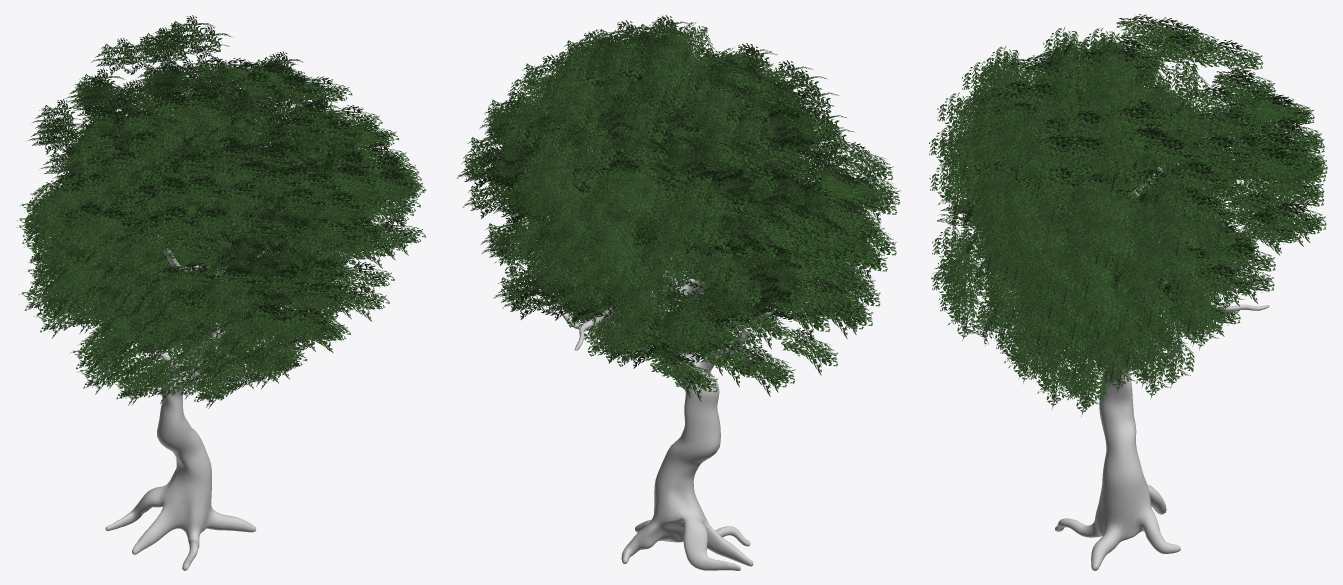
File: arbol2.fbx
3 renders of one model, left to right at view 1: azimuth 30°, elevation 25°; view 2: azimuth 150°, elevation 25°; view 3: azimuth 270°, elevation 25°, orthographic. The views are drawn at different scales.
Parts seen in each view (by area): view 1: Hojas, Tubo; view 2: Hojas, Tubo; view 3: Hojas, Tubo.
Part boxes in pixels (bbox=[...]): Hojas: bbox=[16, 15, 425, 408]; Tubo: bbox=[84, 132, 289, 570]; Hojas: bbox=[456, 15, 900, 401]; Tubo: bbox=[561, 149, 776, 570]; Hojas: bbox=[929, 14, 1327, 416]; Tubo: bbox=[982, 161, 1269, 570].
Size of the model in its own units: 13.16 by 16.86 by 11.44.
